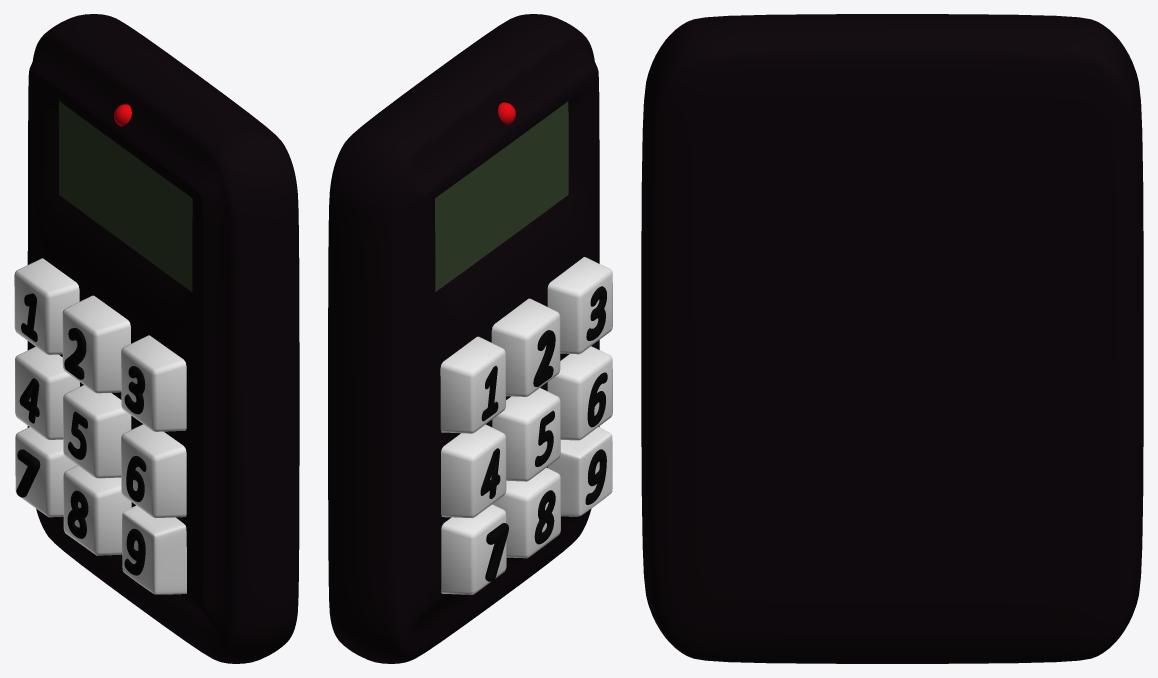
File: Security Key Pad.fbx
3 renders of one model, left to right at view 1: azimuth 30°, elevation 25°; view 2: azimuth 150°, elevation 25°; view 3: azimuth 270°, elevation 25°, orthographic. The views are drawn at different scales.
Parts seen in each view (by area): view 1: device, screen, Cube.004, Cube.007, Cube.003, Cube.006, Cube.010, Cube.002, Cube.009, Cube.001, Cube.008, Text.007 (+8 smaller); view 2: device, screen, Cube.002, Cube.001, Cube.003, Cube.008, Cube.004, Cube.006, Cube.007, Cube.009, Cube.010, Text.006 (+8 smaller); view 3: device.
Part boxes in pixels (left/top/right/bottom): device: left=27, top=14, right=299, bottom=663; screen: left=59, top=101, right=192, bottom=291; Cube.004: left=121, top=335, right=186, bottom=431; Cube.007: left=121, top=424, right=186, bottom=518; Cube.003: left=62, top=295, right=130, bottom=393; Cube.006: left=63, top=385, right=131, bottom=478; Cube.010: left=122, top=505, right=186, bottom=594; Cube.002: left=14, top=258, right=79, bottom=354; Cube.009: left=63, top=465, right=131, bottom=555; Cube.001: left=15, top=346, right=79, bottom=439; Cube.008: left=15, top=427, right=77, bottom=517; Text.007: left=67, top=490, right=88, bottom=538; device: left=328, top=14, right=599, bottom=663; screen: left=435, top=101, right=568, bottom=291; Cube.002: left=440, top=336, right=505, bottom=433; Cube.001: left=441, top=424, right=506, bottom=517; Cube.003: left=491, top=298, right=560, bottom=396; Cube.008: left=441, top=504, right=506, bottom=594; Cube.004: left=547, top=257, right=612, bottom=354; Cube.006: left=492, top=388, right=560, bottom=481; Cube.007: left=547, top=346, right=612, bottom=440; Cube.009: left=493, top=467, right=560, bottom=558; Cube.010: left=548, top=427, right=612, bottom=516; Text.006: left=485, top=523, right=508, bottom=581; device: left=641, top=14, right=1143, bottom=663.
Size of the model in its own units: 68.14 by 266 by 191.
